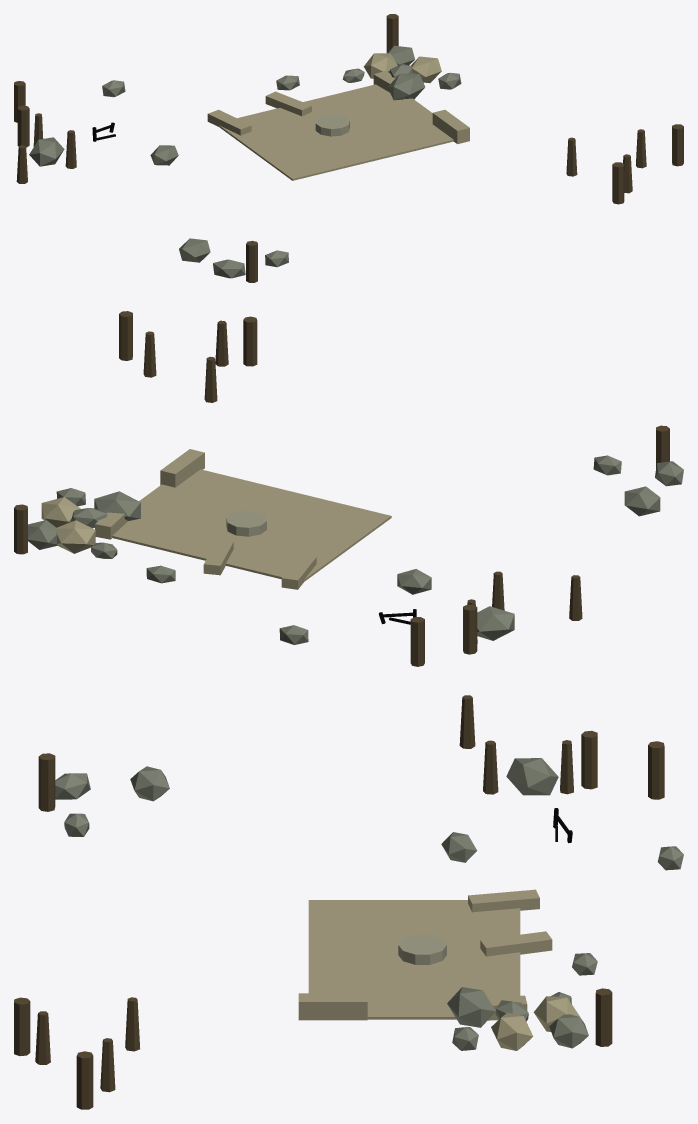
File: forgotten_orchard_gate_solid_props.fbx
3 views of the same model, one above another, from view 1: azimuth 30°, elevation 25°; view 2: azimuth 150°, elevation 25°; view 3: azimuth 270°, elevation 25° (orthographic). The views are drawn at different scales.
Visible parts, largest first — view 1: chunk_forgotten_orchard_gate__PropsSolid; view 2: chunk_forgotten_orchard_gate__PropsSolid; view 3: chunk_forgotten_orchard_gate__PropsSolid.
Part boxes in pixels (bbox=[...]): chunk_forgotten_orchard_gate__PropsSolid: bbox=[14, 14, 683, 282]; chunk_forgotten_orchard_gate__PropsSolid: bbox=[14, 311, 683, 666]; chunk_forgotten_orchard_gate__PropsSolid: bbox=[14, 695, 683, 1109].
Size of the model in its own units: 207 by 18.7 by 165.
